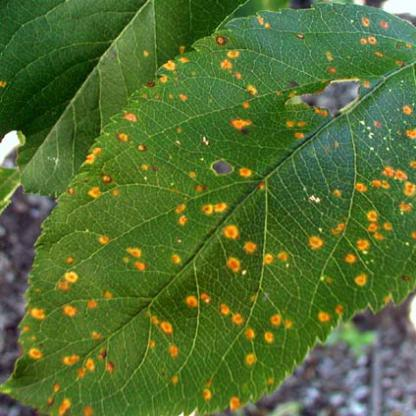Apple rust leaf: (1, 1, 414, 414)
